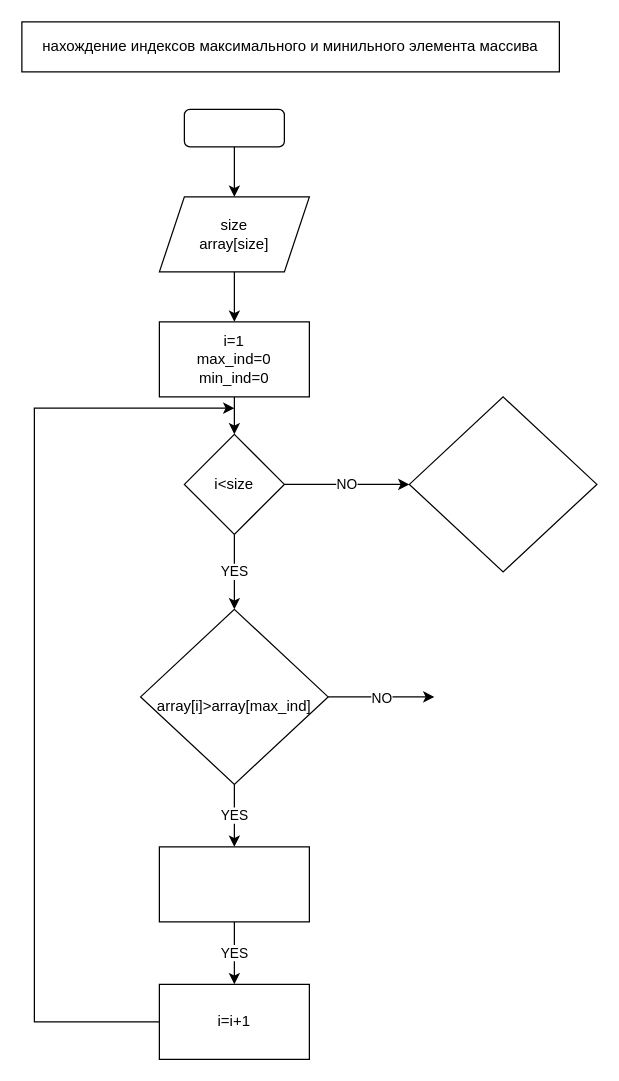
The diagram is 619 pixels wide and 1081 high, and some of its shapes have lost their labels. The box of each missing label's shape, as (x1, y1, x2, y2) in pixels:
array[i]<array[min_ind]: (408, 396, 597, 572)
max_ind=i: (158, 846, 309, 922)
Start: (183, 108, 284, 147)
